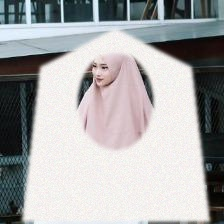Mukena: (22, 27, 209, 222)
